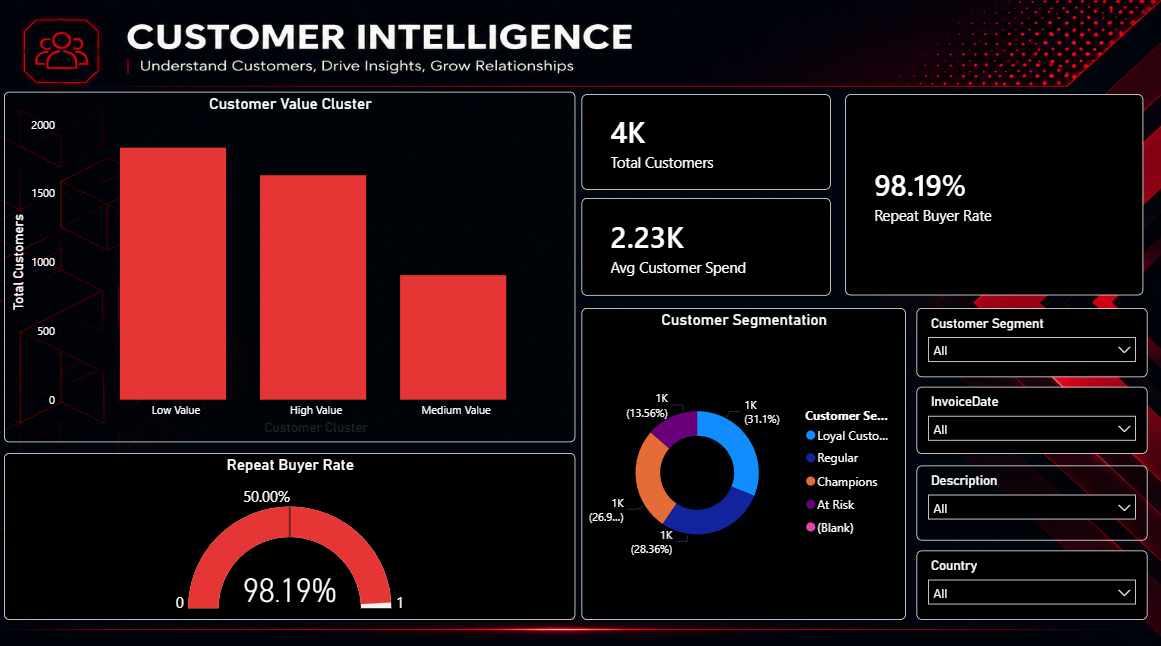

The dashboard page shown, as its layout file describes it:
{"tool":"powerbi","page":{"name":"Customer Intelligence","canvas":[1280,720],"ordinal":2},"visuals":[{"type":"cardVisual","fields":{"Data":["ecommerce orders.Total Customers"]},"box":[639.4,106.2,273.9,105],"z":0},{"type":"cardVisual","fields":{"Data":["ecommerce orders.Repeat Buyer %"]},"box":[929,106.2,326.9,220.8],"z":1000},{"type":"cardVisual","fields":{"Data":["ecommerce orders.Avg Customer Spend"]},"box":[639.4,219.6,273.9,107.4],"z":2000},{"type":"donutChart","title":"Customer Segmentation","fields":{"Category":["ecommerce rfm_customer_data.Customer Segment"],"Y":["ecommerce orders.Total Customers"]},"box":[639.4,340.2,355.9,342.6],"z":3000},{"type":"clusteredColumnChart","title":"Customer Value Cluster","fields":{"Category":["ecommerce rfm_customer_data.Customer Cluster"],"Y":["ecommerce orders.Total Customers"]},"box":[6,102.5,627.3,384.9],"z":4000},{"type":"gauge","title":"Repeat Buyer Rate","fields":{"Y":["ecommerce orders.Repeat Buyer Rate"],"MinValue":["ecommerce orders.Gauge Min"],"MaxValue":["ecommerce orders.Gauge Max"],"TargetValue":["ecommerce orders.Gauge Target"]},"box":[6,499.5,627.3,183.4],"z":5000},{"type":"slicer","fields":{"Values":["ecommerce orders.Country"]},"box":[1007.4,606.8,253.4,76],"z":6000},{"type":"slicer","fields":{"Values":["ecommerce rfm_customer_data.Customer Segment"]},"box":[1007.4,340.2,253.4,76],"z":7000},{"type":"slicer","fields":{"Values":["ecommerce orders.Description"]},"box":[1007.4,512.7,253.4,82],"z":8000},{"type":"slicer","fields":{"Values":["ecommerce orders.InvoiceDate"]},"box":[1007.4,427.1,253.4,73.6],"z":9000}]}

Visuals, with their boxes in screenshot pixels (x1, y1, x2, y2), scaled from the page's 1280x720 canvas onto the 1161x646 screenshot:
cardVisual - ecommerce orders.Total Customers: left=580, top=95, right=828, bottom=189
cardVisual - ecommerce orders.Repeat Buyer %: left=843, top=95, right=1139, bottom=293
cardVisual - ecommerce orders.Avg Customer Spend: left=580, top=197, right=828, bottom=293
"Customer Segmentation" donutChart: left=580, top=305, right=903, bottom=613
"Customer Value Cluster" clusteredColumnChart: left=5, top=92, right=574, bottom=437
"Repeat Buyer Rate" gauge: left=5, top=448, right=574, bottom=613
slicer - ecommerce orders.Country: left=914, top=544, right=1144, bottom=613
slicer - ecommerce rfm_customer_data.Customer Segment: left=914, top=305, right=1144, bottom=373
slicer - ecommerce orders.Description: left=914, top=460, right=1144, bottom=534
slicer - ecommerce orders.InvoiceDate: left=914, top=383, right=1144, bottom=449
